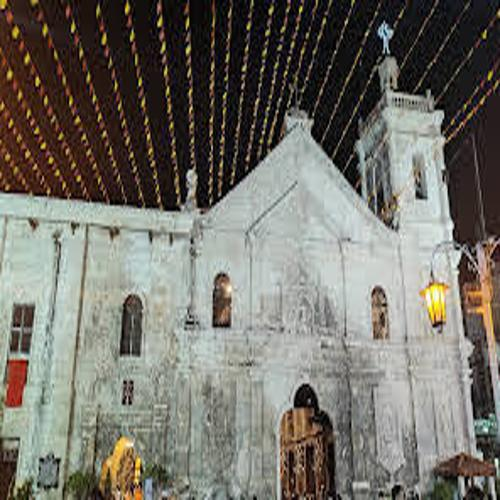Sto. Nino Basilica Church: (184, 19, 486, 500)
